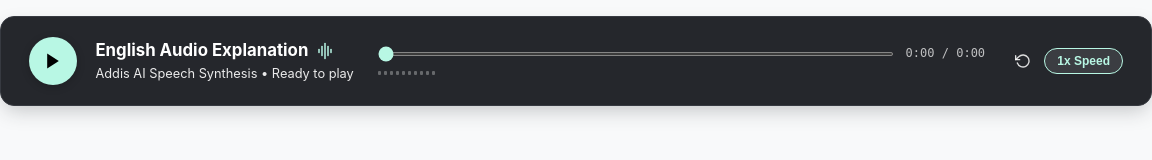
Test: AudioPlayer Component › cycles playback speed when speed button is clicked
Click the button titled "Adjust speech playback speed for clarity" at (1084, 61), box top-left (1044, 48), bottom-right (1123, 74)
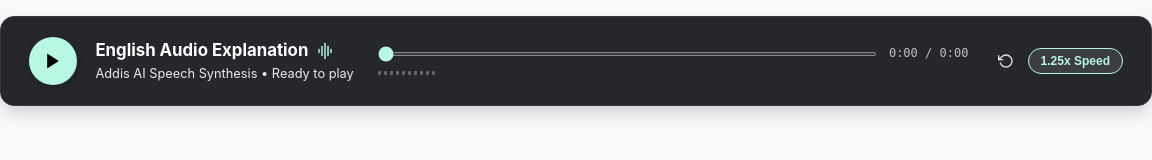
Result: the button titled "Adjust speech playback speed for clarity" shows "1.25x"
Click the button titled "Adjust speech playback speed for clarity" at (1075, 61), box top-left (1028, 48), bottom-right (1123, 74)
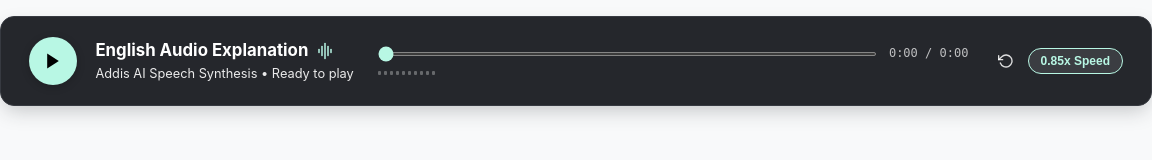
Result: the button titled "Adjust speech playback speed for clarity" shows "0.85x"
Click the button titled "Adjust speech playback speed for clarity" at (1075, 61), box top-left (1028, 48), bottom-right (1123, 74)
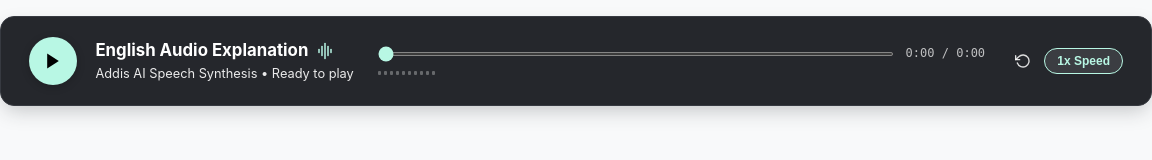
Result: the button titled "Adjust speech playback speed for clarity" shows "1x" at top-left (1044, 48), bottom-right (1123, 74)
